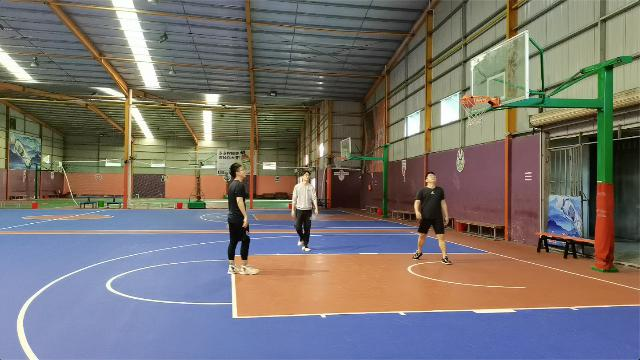basket: (460, 94, 490, 126)
goal: (461, 93, 475, 107)
